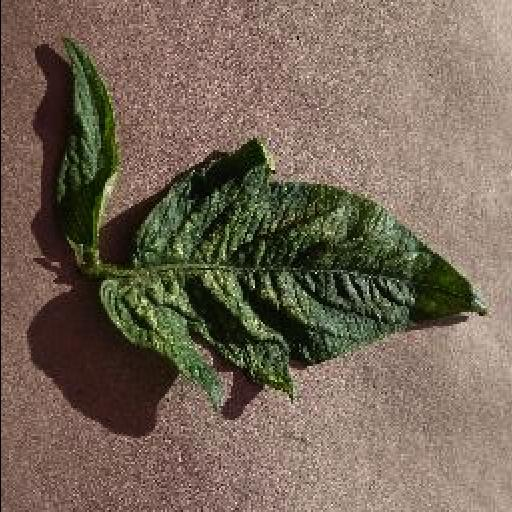Spider Mites: (99, 140, 485, 404)
